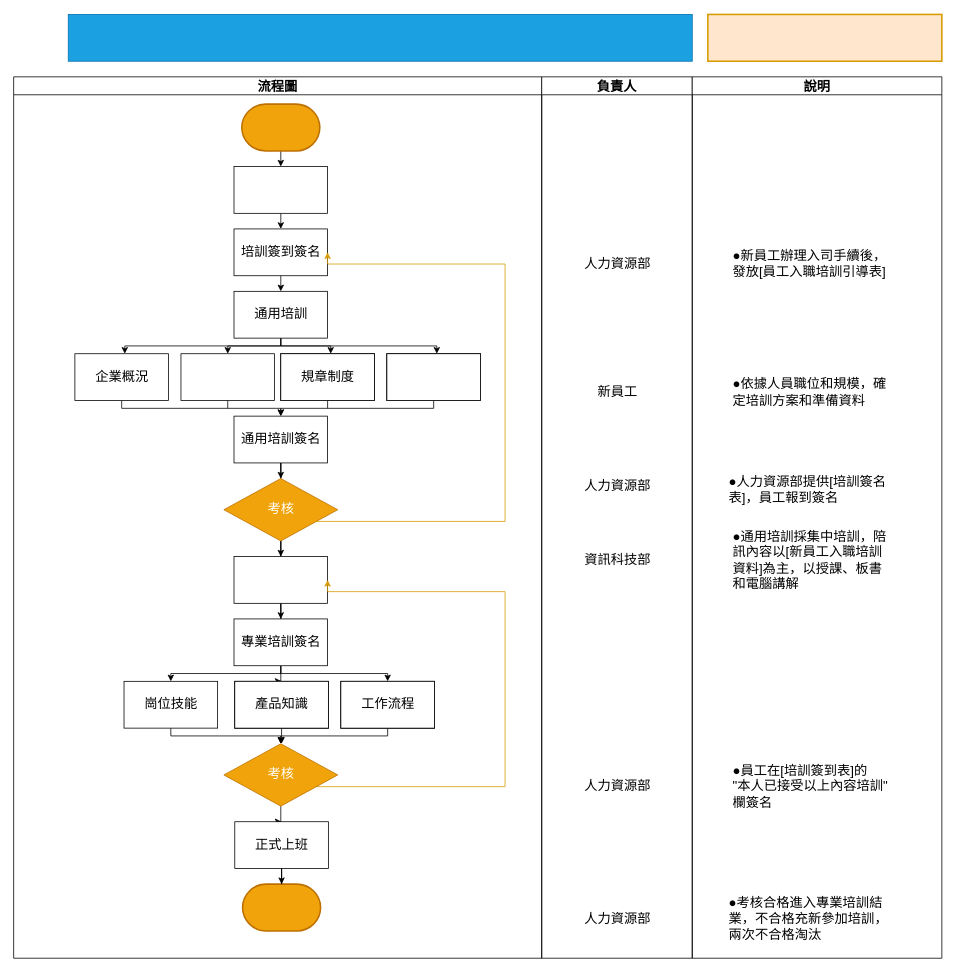
Image size: 956x972. Some labels were removed from this diagram. Here are the shapes that lost their labels. From the top down, the centre of each, then its label:
At pixel 379 37: "資訊科技： 陳柏均 員工入職培訓流程".
At pixel 824 37: "學號： 33050123".
At pixel 280 127: "開始".
At pixel 280 189: "培訓資料準備".
At pixel 227 377: "行業培訓".
At pixel 433 377: "產品基礎".
At pixel 280 579: "專業培訓".
At pixel 281 907: "結束".
